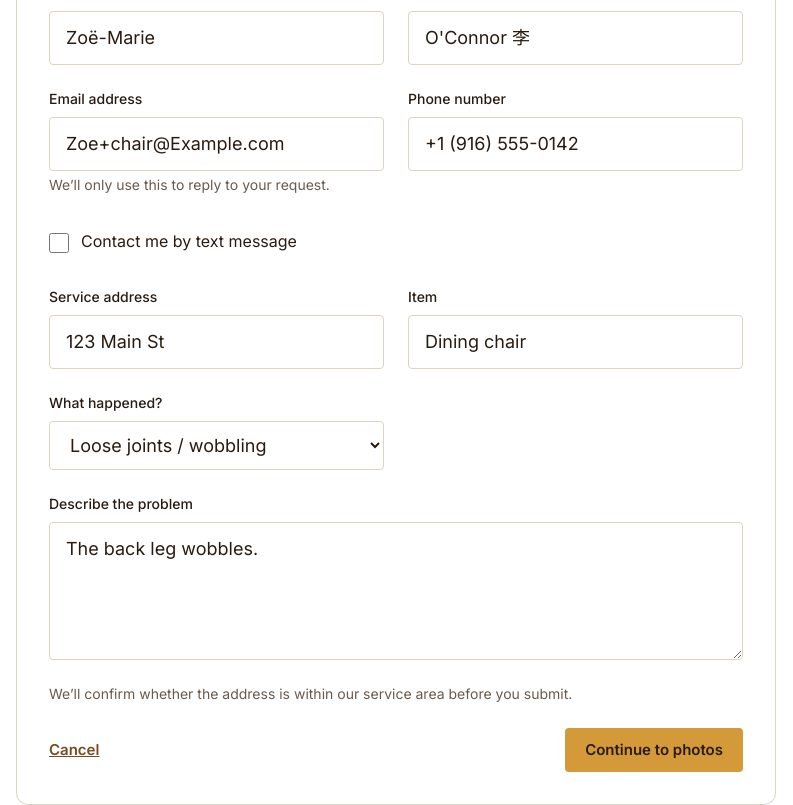
it: EstimateStep1Form › associates a server text-permission error using InlineFieldError
(page scrolled)
Click the button "Continue to photos" at (654, 750), box [565,728,743,772]
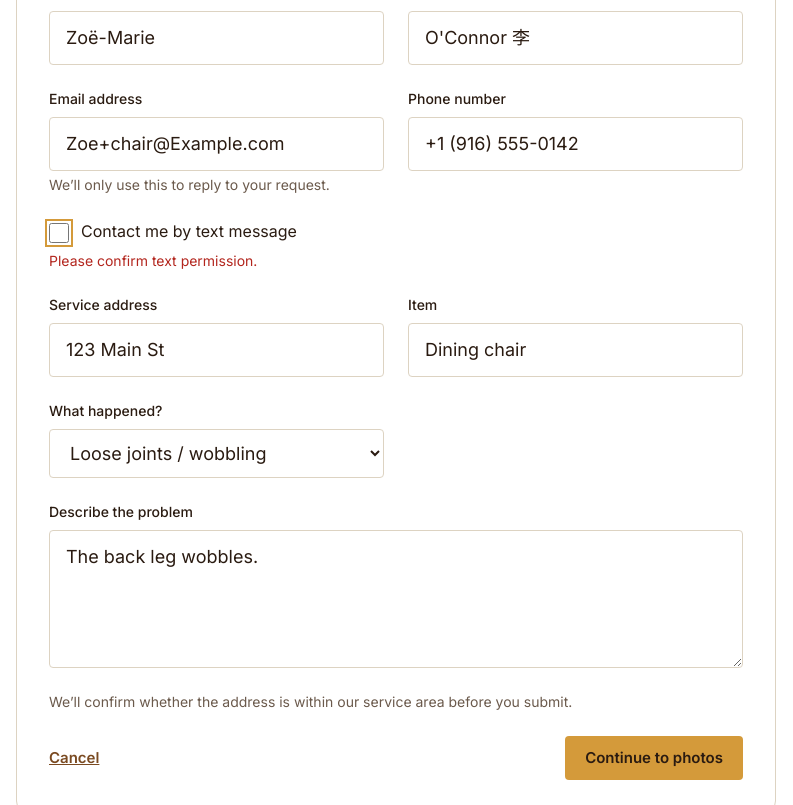
Result: the text "Please confirm text permission." is shown at [49,252,257,269]
Click the checkbox labelled "Contact me by text message" at (59, 233), box [49,223,69,243]
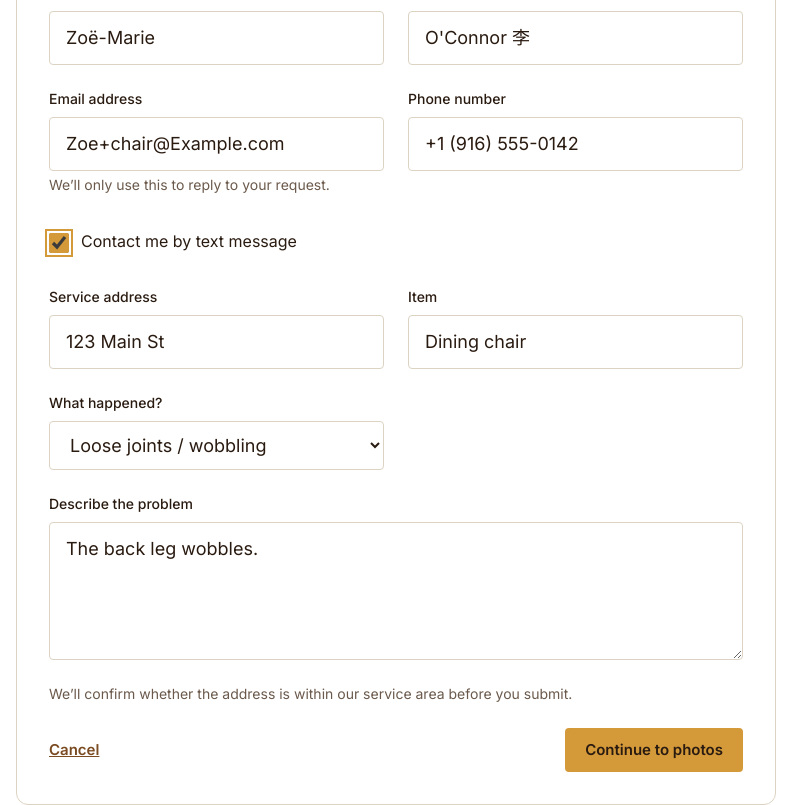
Result: the text "Please confirm text permission." is gone
